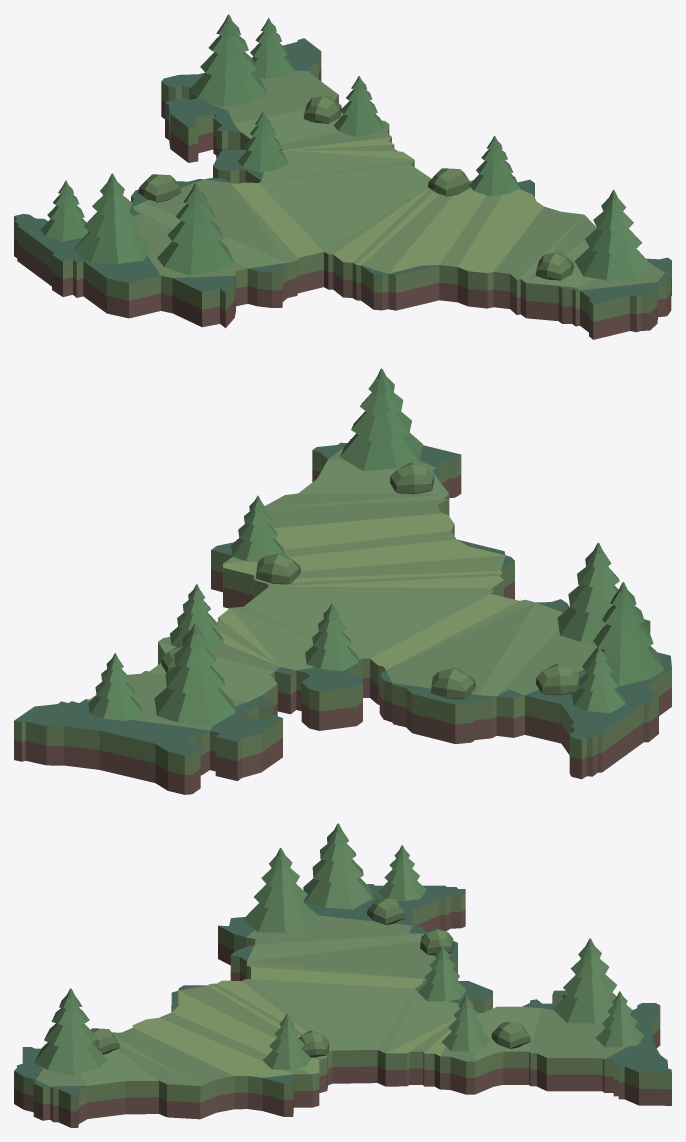
File: deputatskii.gltf
3 renders of one model, top to bottom at view 1: azimuth 30°, elevation 25°; view 2: azimuth 150°, elevation 25°; view 3: azimuth 270°, elevation 25°, orthographic. The views are drawn at different scales.
Parts seen in each view (by area): view 1: депутатский; view 2: депутатский; view 3: депутатский.
Part boxes in pixels (x1,y1,x2,y2): депутатский: [14, 14, 671, 339]; депутатский: [14, 368, 671, 794]; депутатский: [14, 823, 671, 1127].
Size of the model in its own units: 2.12 by 0.5325 by 2.8.
